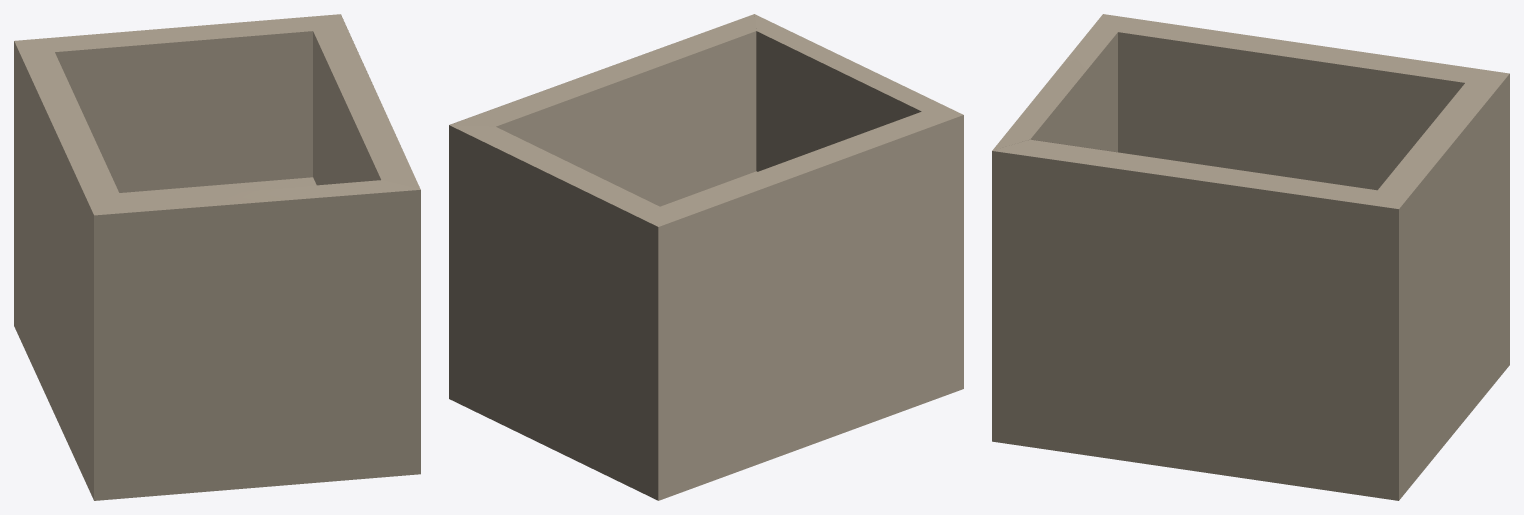
File: MSH_QuestObject_box_01.fbx
The picture shows the model from 3 angles, left to right: view 1: azimuth 30°, elevation 25°; view 2: azimuth 150°, elevation 25°; view 3: azimuth 270°, elevation 25°; orthographic projection. The views are drawn at different scales.
Visible parts, largest first — view 1: MSH_QuestObject_box_01; view 2: MSH_QuestObject_box_01; view 3: MSH_QuestObject_box_01.
Boxes of the visible parts, box(x1,y1,x2,y2) form: MSH_QuestObject_box_01: box(14, 14, 420, 500); MSH_QuestObject_box_01: box(449, 14, 963, 500); MSH_QuestObject_box_01: box(992, 14, 1509, 500).
Size of the model in its own units: 0.6118 by 0.4264 by 0.686.
